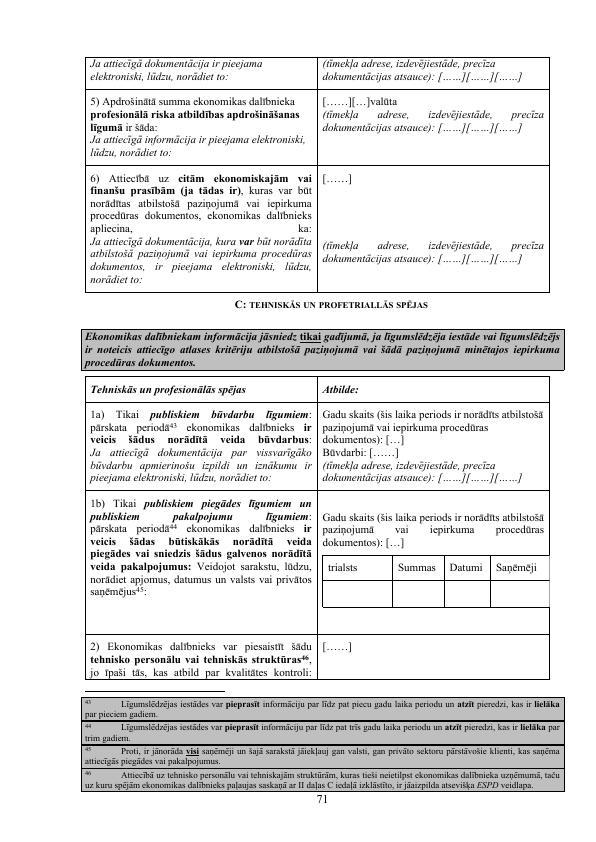table: (82, 374, 556, 682), (82, 54, 552, 294), (77, 694, 570, 795)
text: (82, 328, 563, 368), (233, 294, 431, 314)
